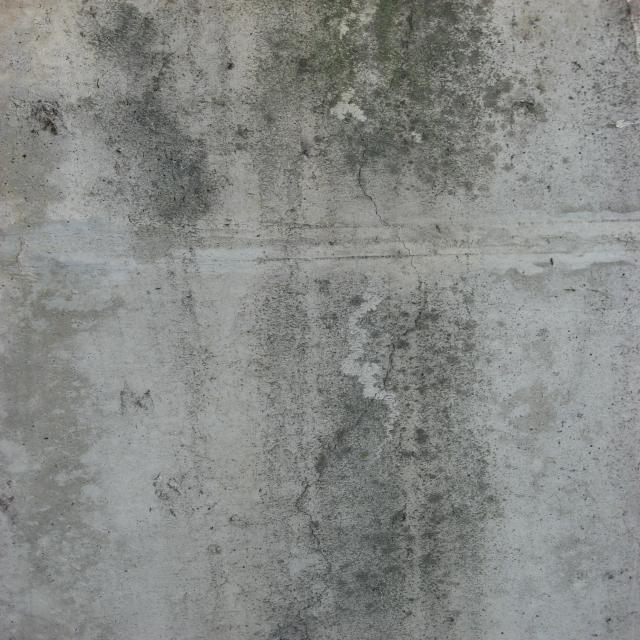vertical crack: (286, 0, 436, 640)
